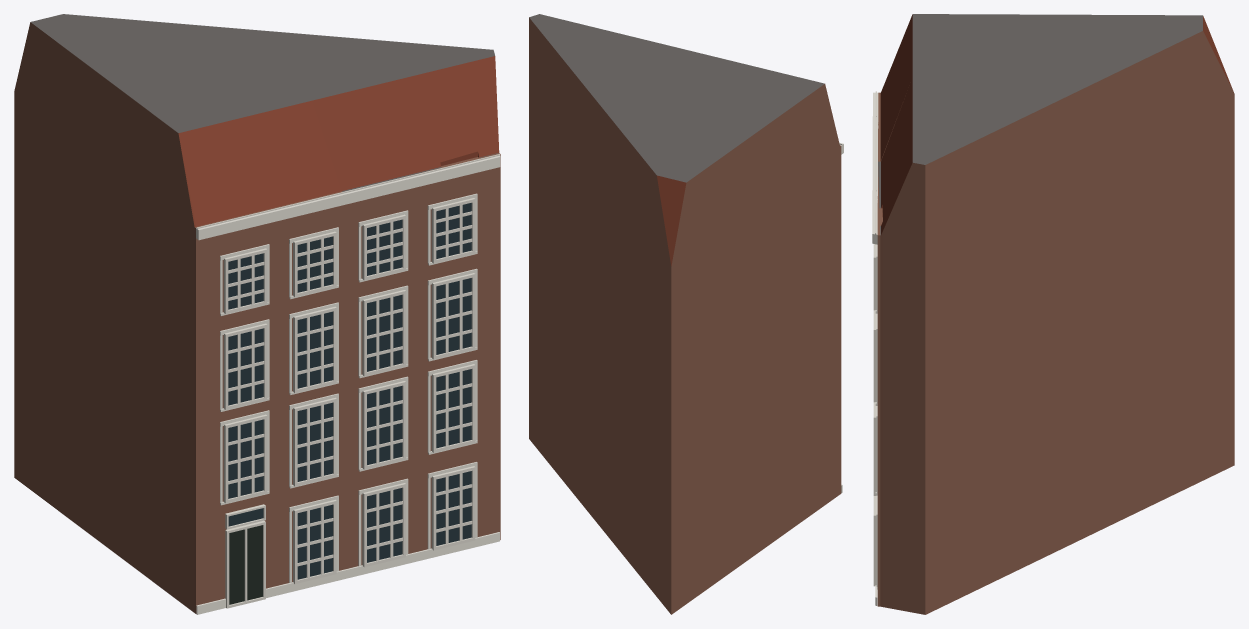
The picture shows the model from 3 angles, left to right: view 1: azimuth 30°, elevation 25°; view 2: azimuth 150°, elevation 25°; view 3: azimuth 270°, elevation 25°; orthographic projection. The views are drawn at different scales.
Parts seen in each view (by area): view 1: spec-0363100012173566; view 2: spec-0363100012173566; view 3: spec-0363100012173566.
Part boxes in pixels (<box>): spec-0363100012173566: <box>14,14,500,614</box>; spec-0363100012173566: <box>529,14,843,614</box>; spec-0363100012173566: <box>872,14,1234,614</box>.
Bounding box in the file's own units: 11.62 × 16.12 × 11.77.
